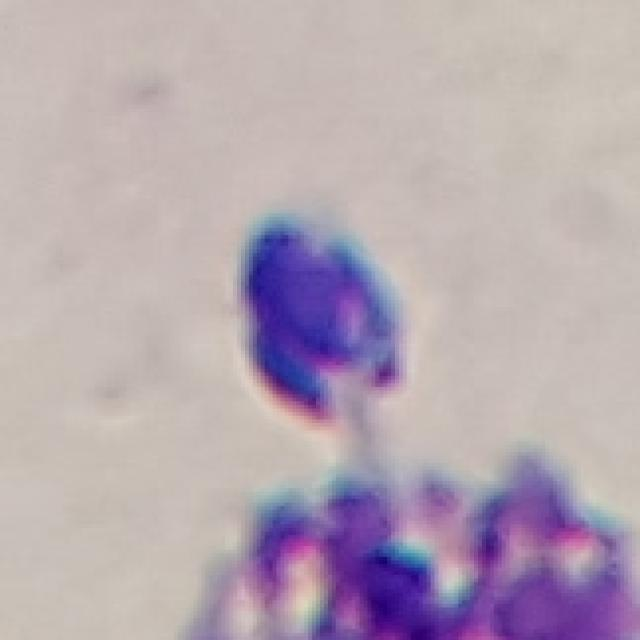non-sperm: (200, 203, 410, 469)
